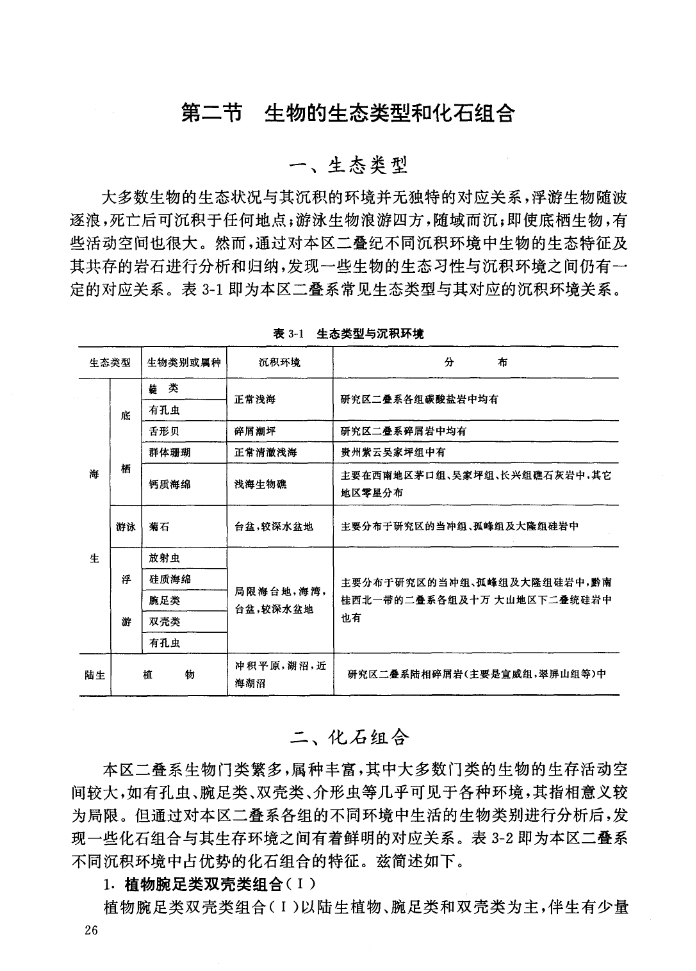table: (78, 345, 620, 697)
